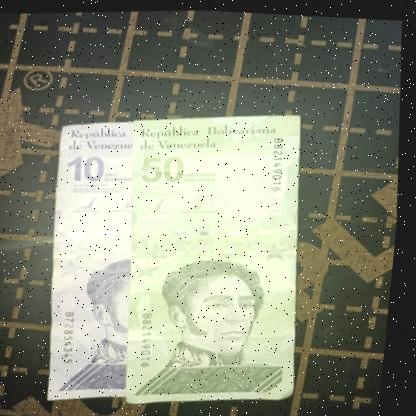fifty-front-vef: (113, 105, 323, 409)
ten-front-vef: (36, 117, 156, 404)
